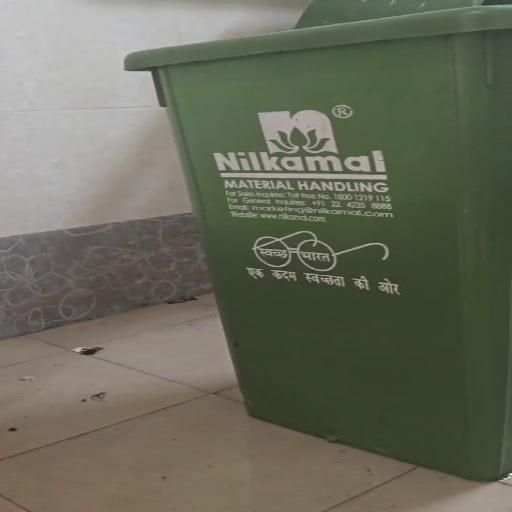Nilkamal-dustbin-detection: (126, 6, 511, 479)
